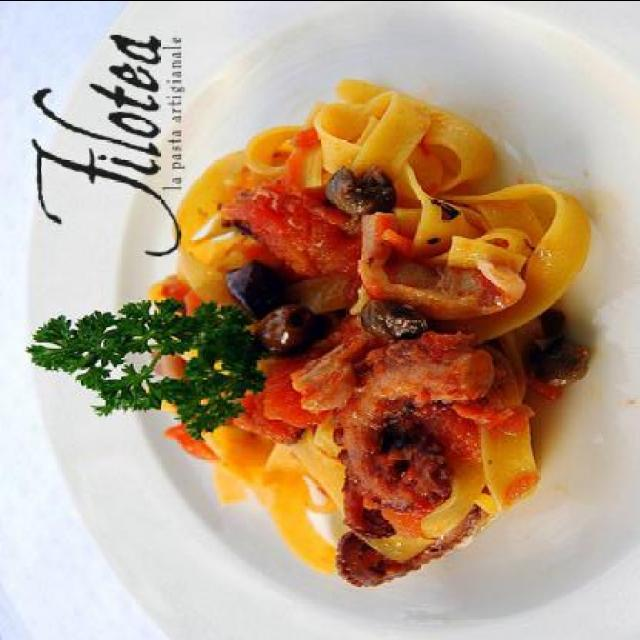Pasta al ragu: (176, 126, 574, 574)
